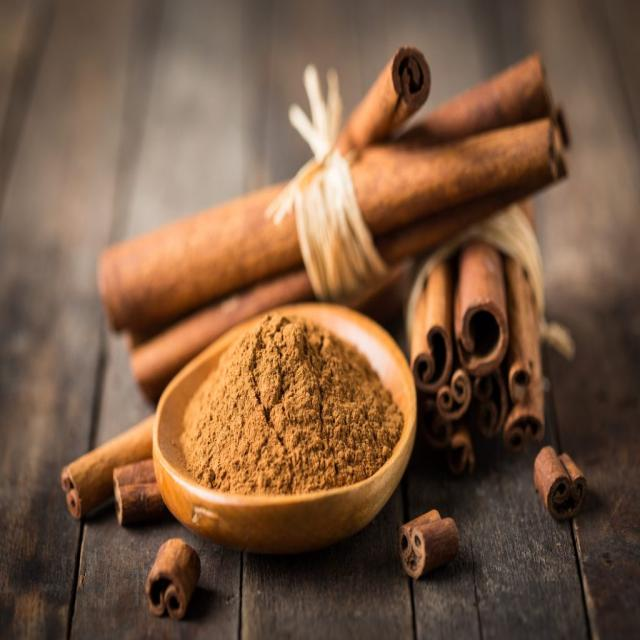Cinnamon: (98, 184, 301, 330), (351, 119, 565, 235), (398, 54, 554, 147), (335, 48, 430, 155), (61, 415, 155, 519), (454, 241, 509, 376), (410, 260, 452, 392), (146, 538, 201, 620), (399, 509, 460, 579), (534, 446, 588, 520), (114, 459, 165, 523)
